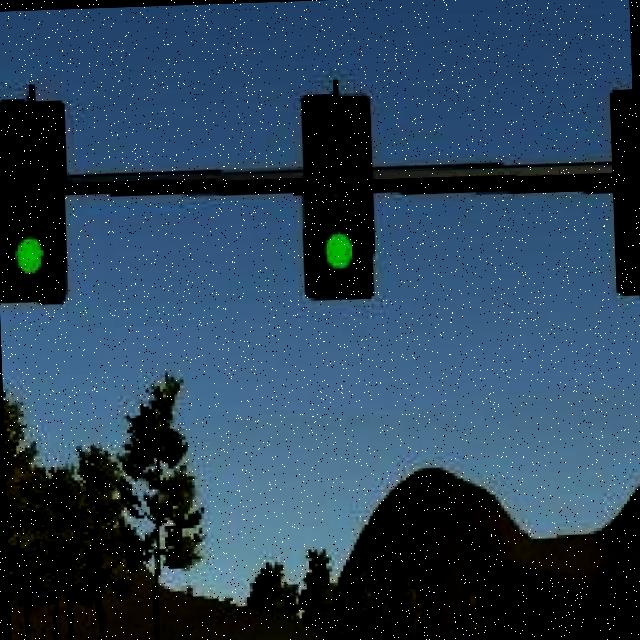Zielone swiatlo: (301, 90, 377, 304), (0, 98, 74, 300)
